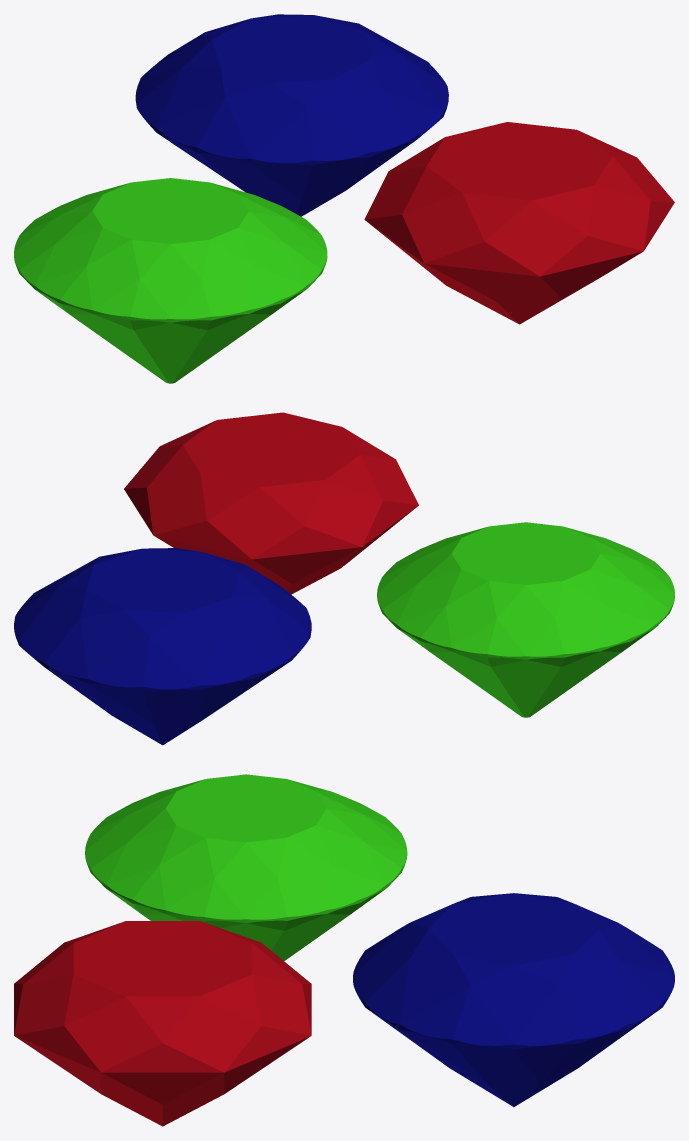
File: diamond (1).glb
3 views of the same model, one above another, from view 1: azimuth 30°, elevation 25°; view 2: azimuth 150°, elevation 25°; view 3: azimuth 270°, elevation 25° (orthographic). The views are drawn at different scales.
Visible parts, largest first — view 1: dobj_0, dobj.001_2, Gem_1; view 2: dobj_0, dobj.001_2, Gem_1; view 3: dobj_0, Gem_1, dobj.001_2.
Boxes of the visible parts, bbox=[...] form: dobj_0: bbox=[135, 14, 448, 216]; dobj.001_2: bbox=[14, 178, 327, 383]; Gem_1: bbox=[364, 122, 674, 324]; dobj_0: bbox=[14, 548, 311, 745]; dobj.001_2: bbox=[377, 522, 674, 717]; Gem_1: bbox=[124, 412, 418, 594]; dobj_0: bbox=[353, 893, 674, 1106]; Gem_1: bbox=[14, 921, 311, 1126]; dobj.001_2: bbox=[85, 774, 407, 960].
Size of the model in its own units: 4.2 by 1.24 by 4.1.
